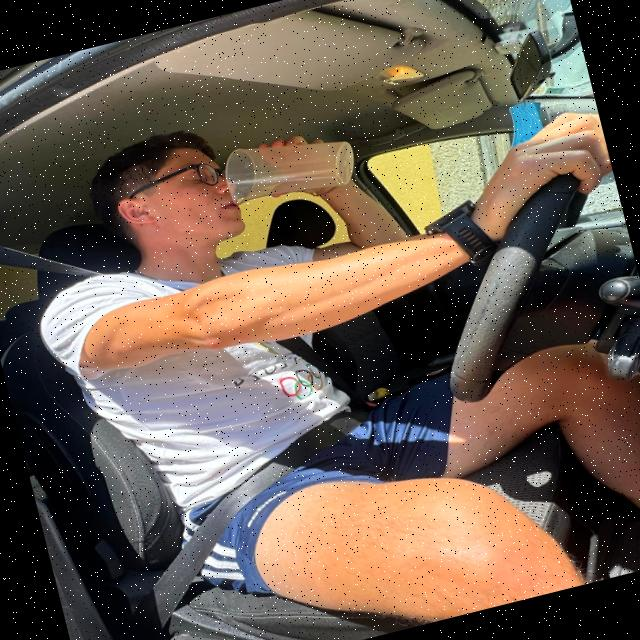Drinking: (173, 106, 394, 247)
